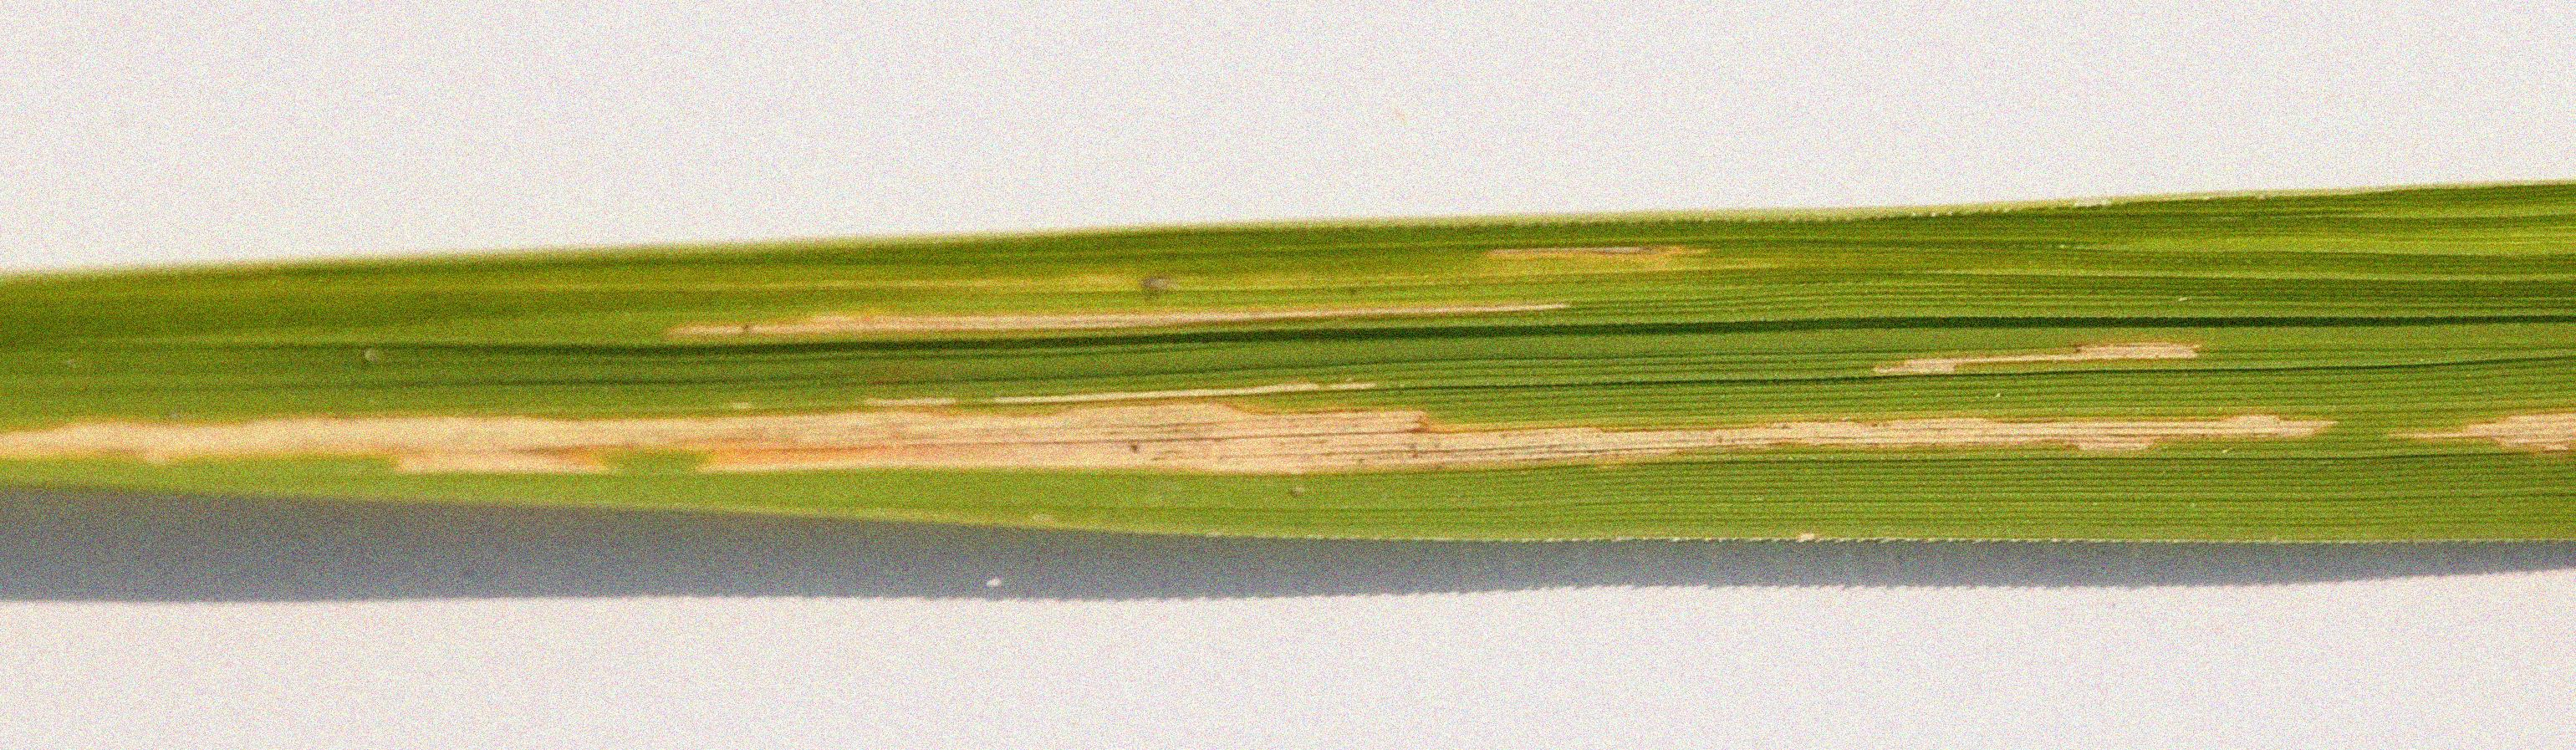bacterial_leaf_blight: (57, 240, 2331, 507)
